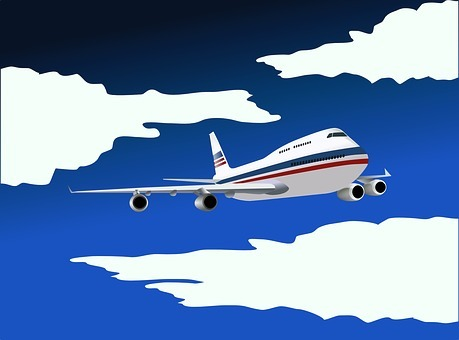aeroplane: (66, 123, 395, 214)
